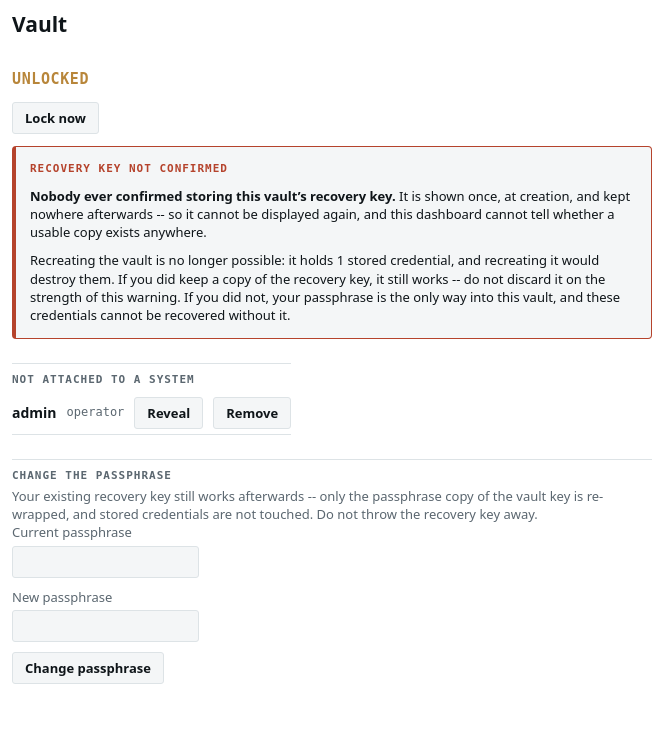
Test: VaultPanel › removing a credential (C1) › a single click does not delete -- it asks first
Click the button with test id "remove-c1": coordinates (252, 413) left=213, top=396, right=291, bottom=429
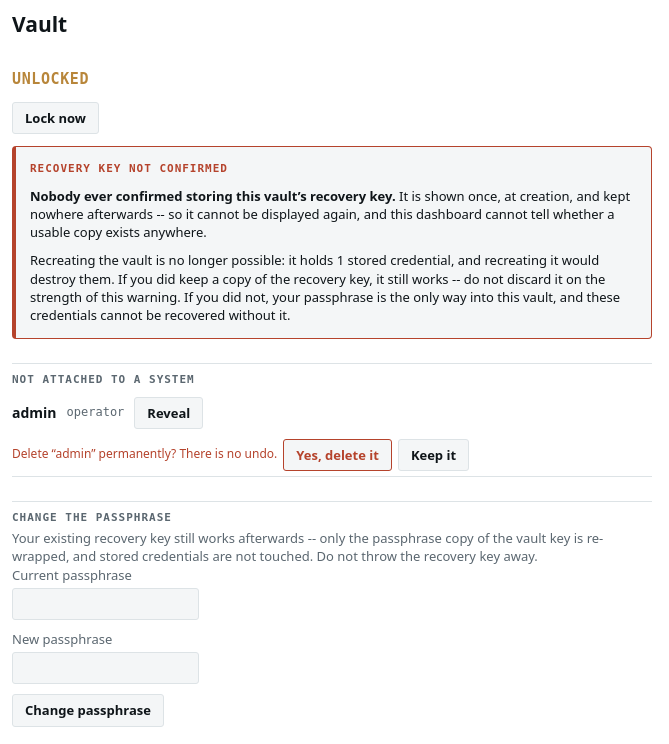
Expected: the list item with test id "credential-row-c1" is shown, left=12, top=392, right=652, bottom=477
Now the button with test id "confirm-remove-c1" is shown, box left=283, top=439, right=392, bottom=471
Now the text "Delete “admin” permanently? There is no undo." is shown, box left=12, top=446, right=277, bottom=463
